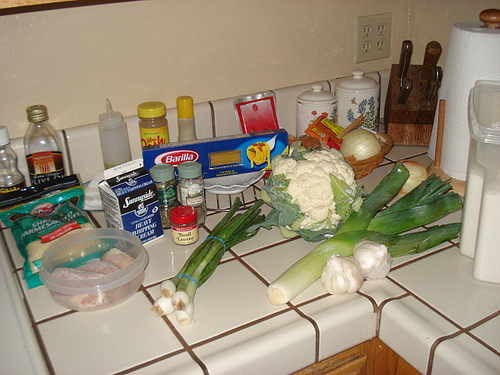cauliflower: (273, 149, 354, 230)
